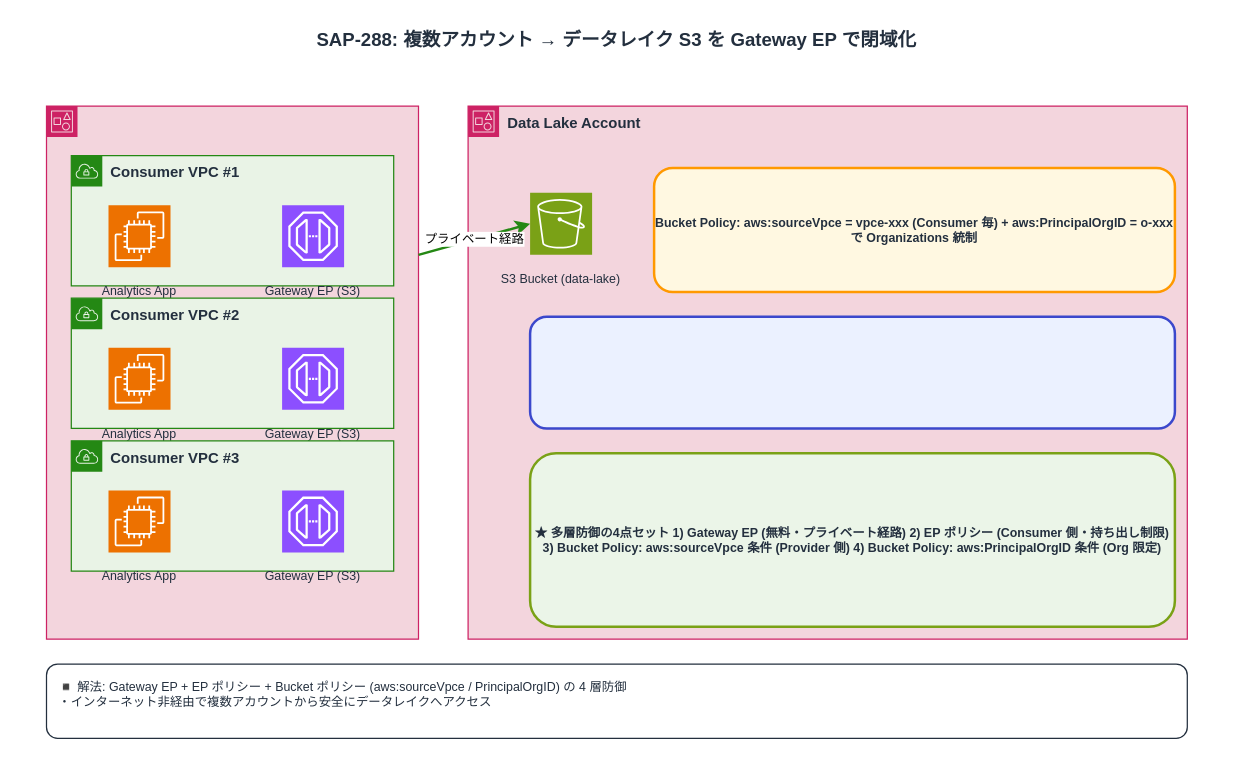
Image size: 1233x760. Some labels were removed from this diagram. Here are the shapes that lost their labels. From the top down, the box of each, then its label:
(45, 105, 418, 639): Consumer Accounts (複数)
(528, 315, 1176, 429): VPC Endpoint Policy 各 Consumer の EP に『自テナントの prefix のみ許可』を設定
